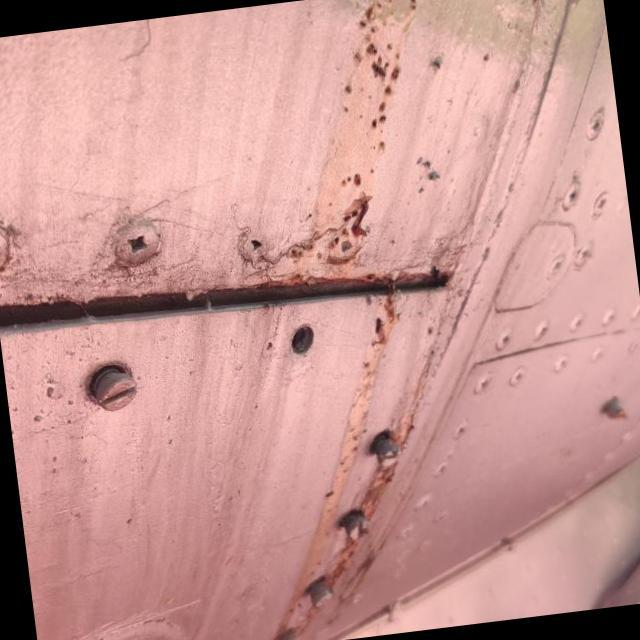Fastener Damage: (258, 294, 346, 384)
